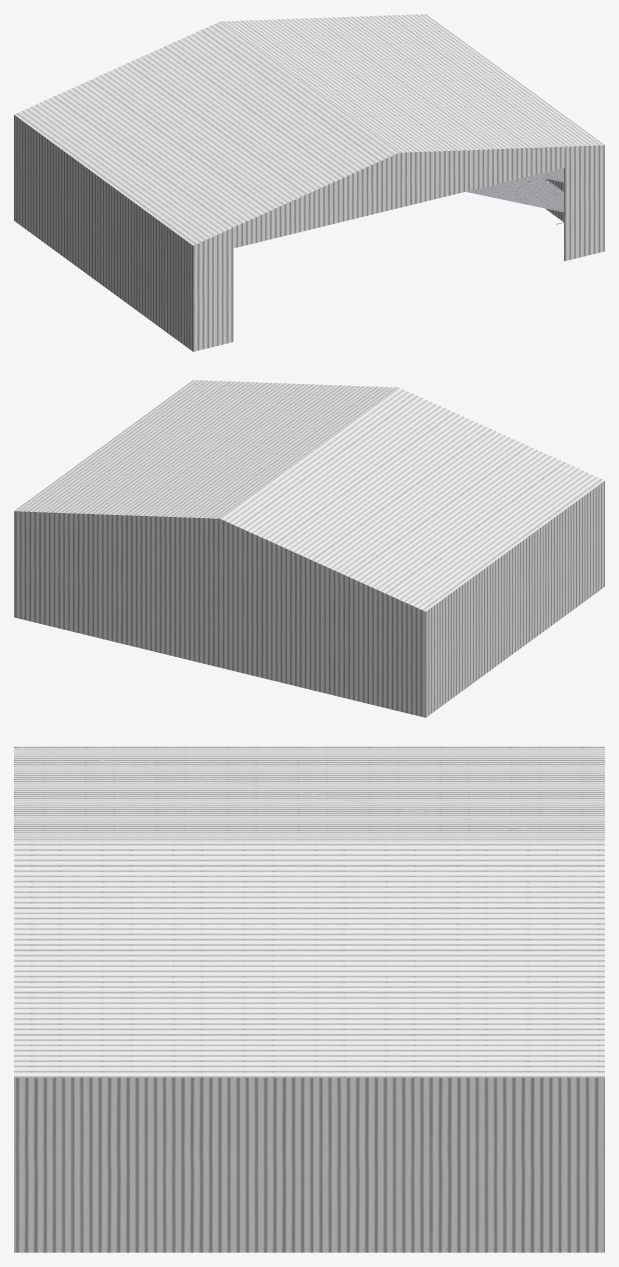
The model's file is ChimNirLargeHangar2_LOD1.gltf.
3 renders of one model, top to bottom at view 1: azimuth 30°, elevation 25°; view 2: azimuth 150°, elevation 25°; view 3: azimuth 270°, elevation 25°, orthographic. The views are drawn at different scales.
Parts seen in each view (by area): view 1: node6, node5, node8; view 2: node6, node5; view 3: node6, node5.
Boxes of the visible parts, x1,y1,x2,y2 form: node6: (14,14,604,245); node5: (14,115,604,351); node8: (466,168,563,224); node6: (14,380,604,611); node5: (14,481,604,717); node6: (14,746,604,1077); node5: (14,1077,604,1252).
Size of the model in its own units: 19.9 by 6.88 by 15.
